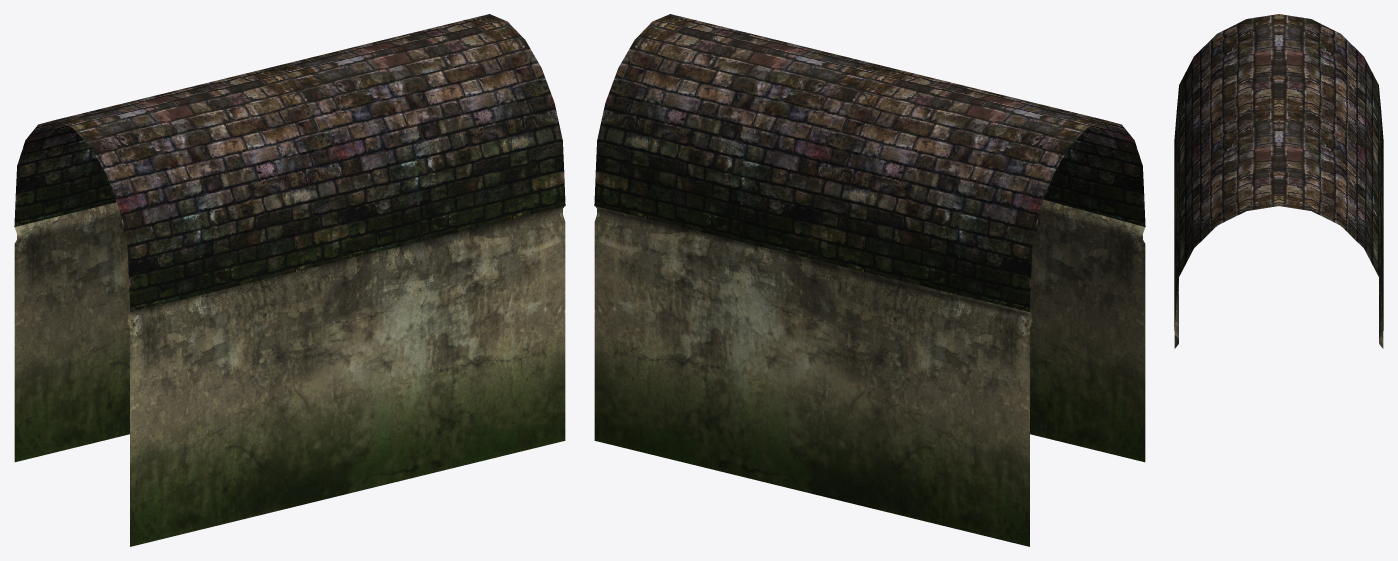
The model's file is wall_tunnel_high.DAE.
3 renders of one model, left to right at view 1: azimuth 30°, elevation 25°; view 2: azimuth 150°, elevation 25°; view 3: azimuth 270°, elevation 25°, orthographic. The views are drawn at different scales.
Visible parts, largest first — view 1: tunnel_high_walls, tunnel_high_ceiling; view 2: tunnel_high_walls, tunnel_high_ceiling; view 3: tunnel_high_ceiling, tunnel_high_walls.
Part boxes in pixels (x1,y1,x2,y2): tunnel_high_walls: (14,202,565,546); tunnel_high_ceiling: (14,14,565,312); tunnel_high_walls: (594,200,1145,546); tunnel_high_ceiling: (594,14,1145,312); tunnel_high_ceiling: (1174,14,1383,330); tunnel_high_walls: (1174,280,1383,348).
Size of the model in its own units: 4 by 1.84 by 3.31.
